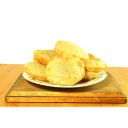poori: (47, 54, 84, 86), (55, 38, 87, 59), (23, 61, 50, 79), (33, 49, 60, 65), (85, 57, 107, 73)
